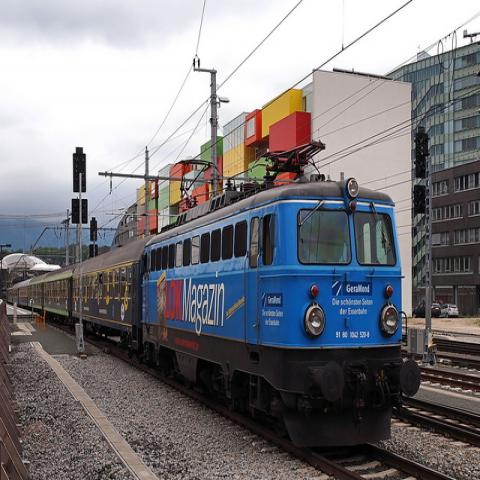car: (412, 301, 441, 320), (438, 304, 458, 318)
